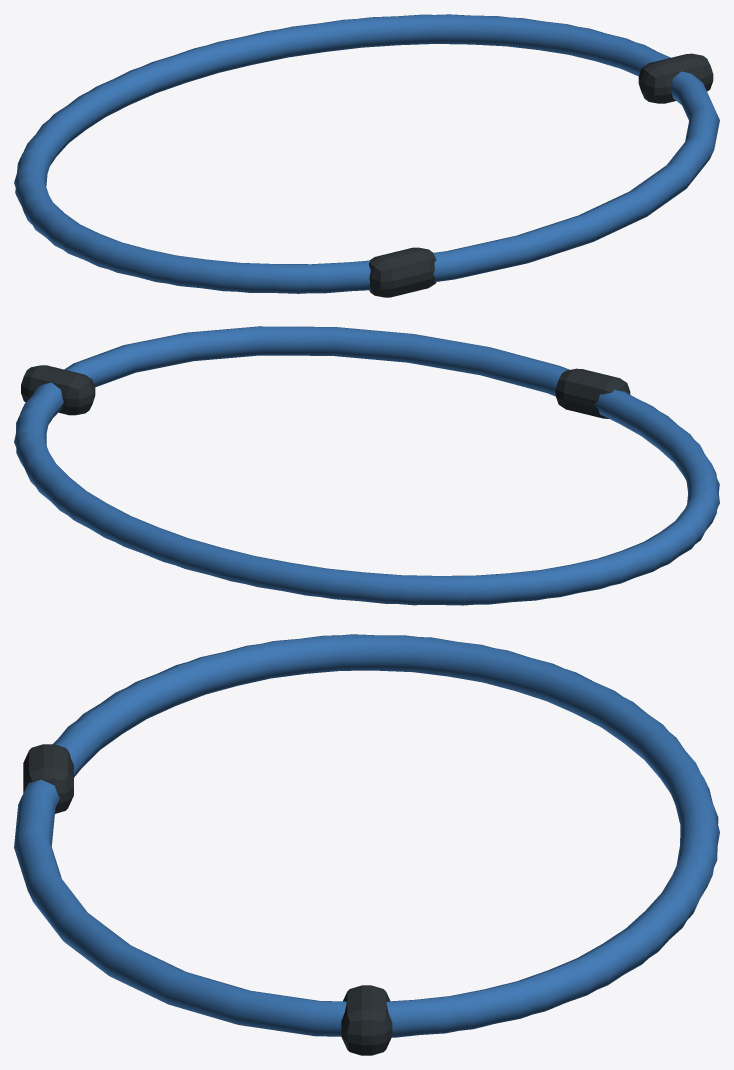
Rendered from cable_blue.glb.
The picture shows the model from 3 angles, top to bottom: view 1: azimuth 30°, elevation 25°; view 2: azimuth 150°, elevation 25°; view 3: azimuth 270°, elevation 25°; orthographic projection. The views are drawn at different scales.
Parts seen in each view (by area): view 1: cable_blue; view 2: cable_blue; view 3: cable_blue.
Boxes of the visible parts, x1,y1,x2,y2 form: cable_blue: [14, 14, 719, 297]; cable_blue: [14, 326, 719, 605]; cable_blue: [14, 634, 719, 1055].
Bounding box in the file's own units: 0.6452 × 0.035 × 0.4855.
